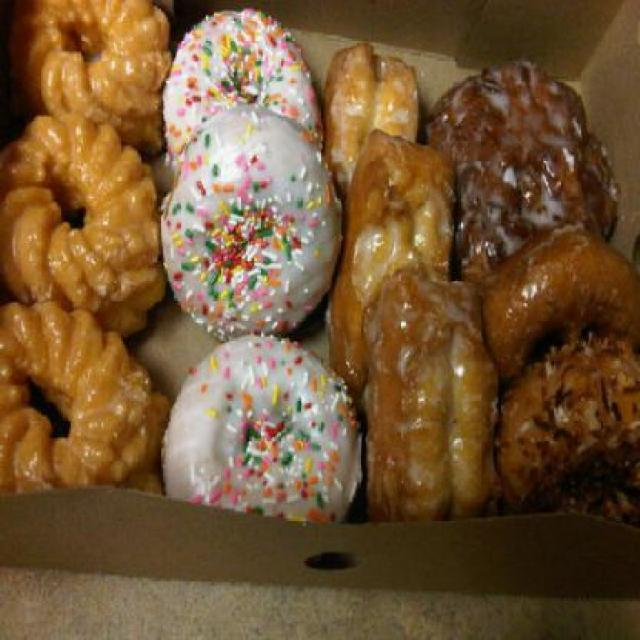Donuts: (2, 2, 640, 550)
